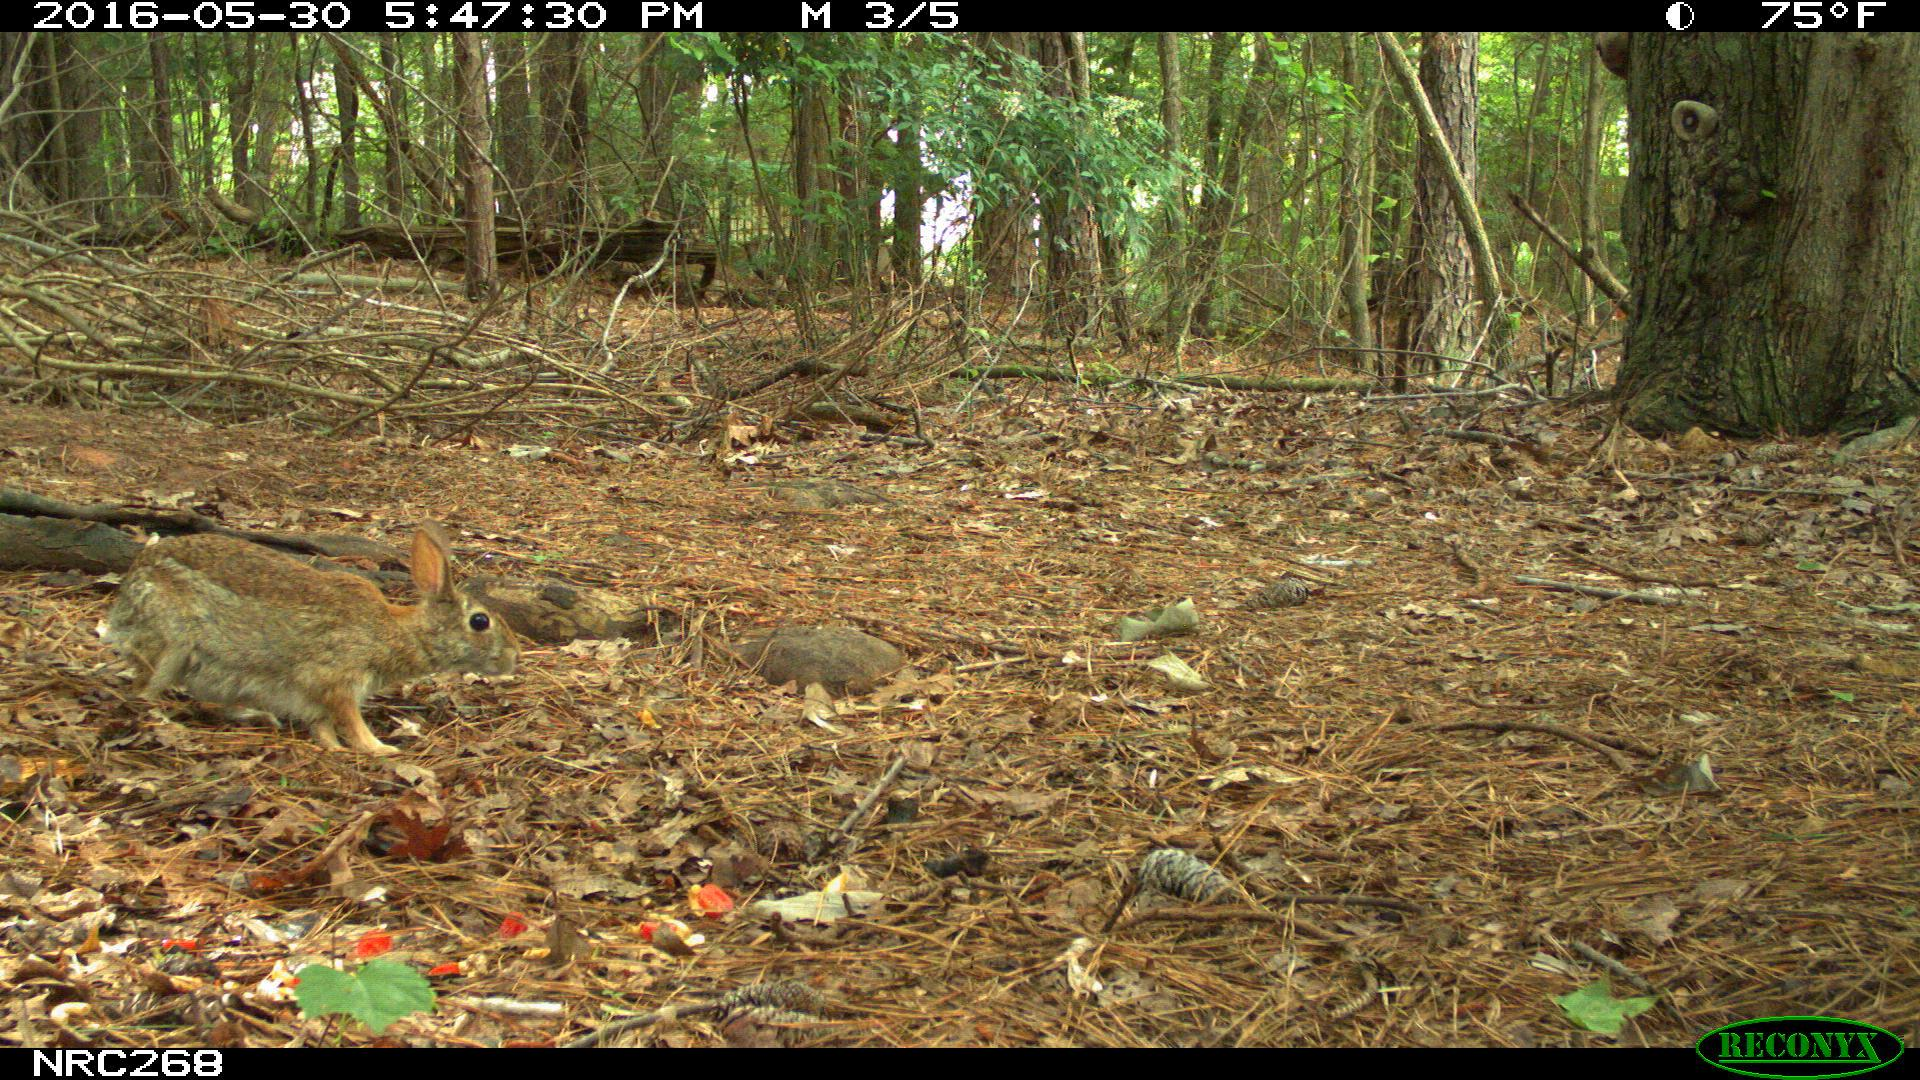Animal: (102, 524, 517, 760)
